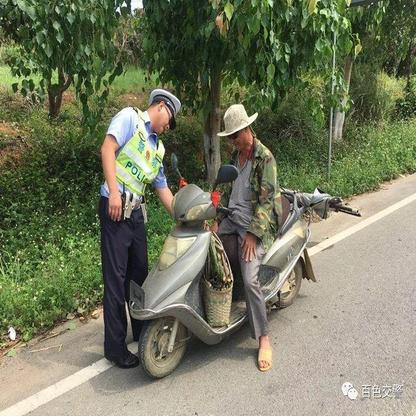target: (137, 103, 340, 381)
